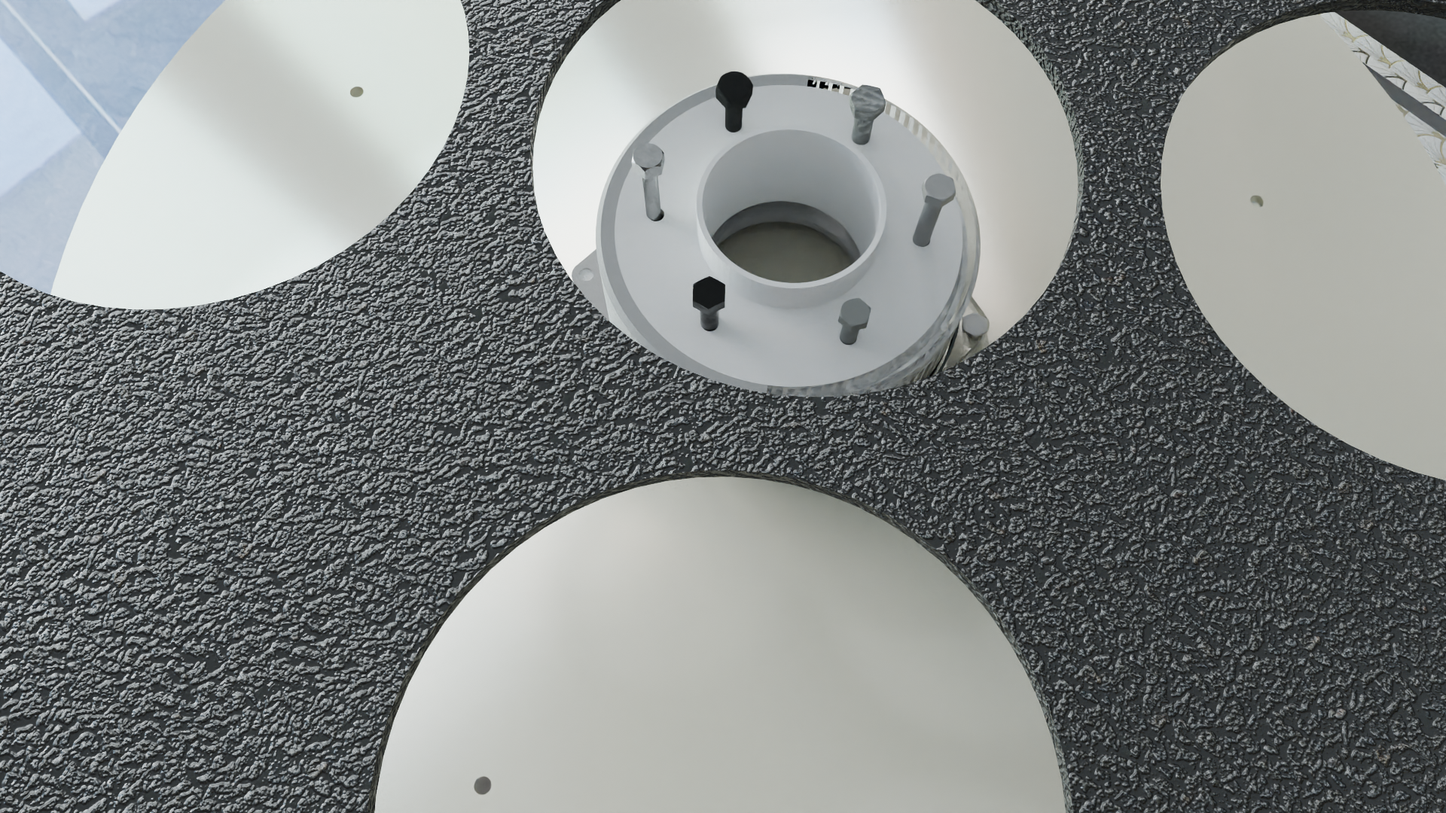bolt: (692, 276, 725, 309), (850, 84, 886, 114), (716, 72, 753, 101), (923, 172, 956, 202), (632, 143, 664, 172), (839, 298, 871, 327)
